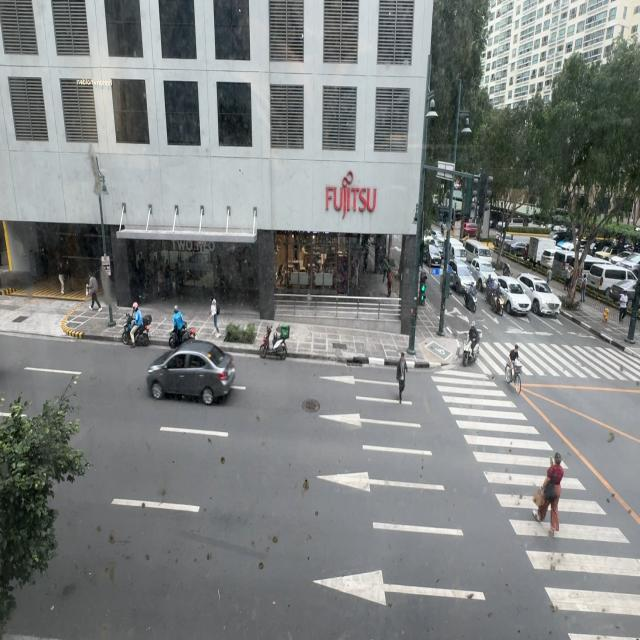crossing: (534, 451, 564, 533), (508, 344, 521, 385)
jaywalking: (397, 352, 408, 402)
pedestrain: (87, 274, 101, 312), (211, 298, 221, 341), (619, 290, 627, 324), (57, 260, 65, 294), (580, 275, 586, 303)
